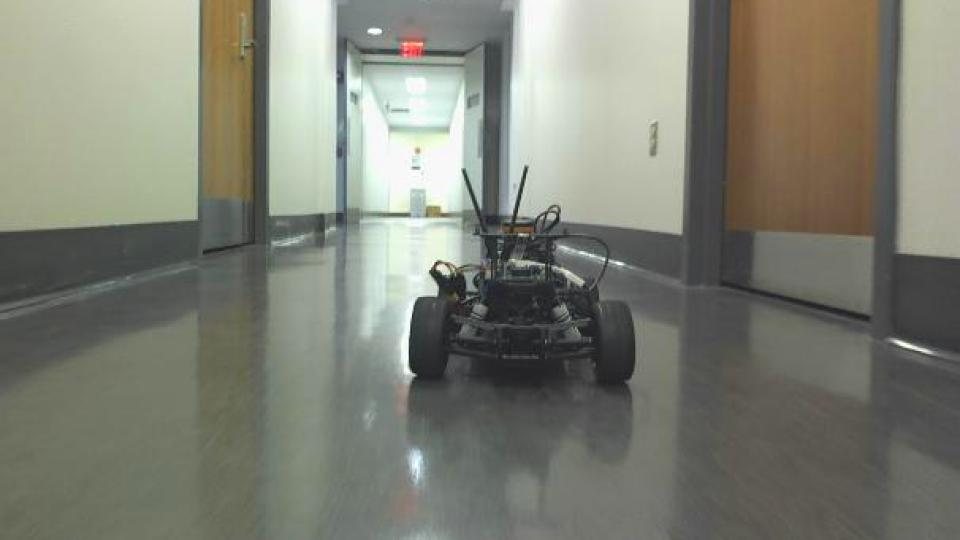car: (404, 164, 638, 388)
